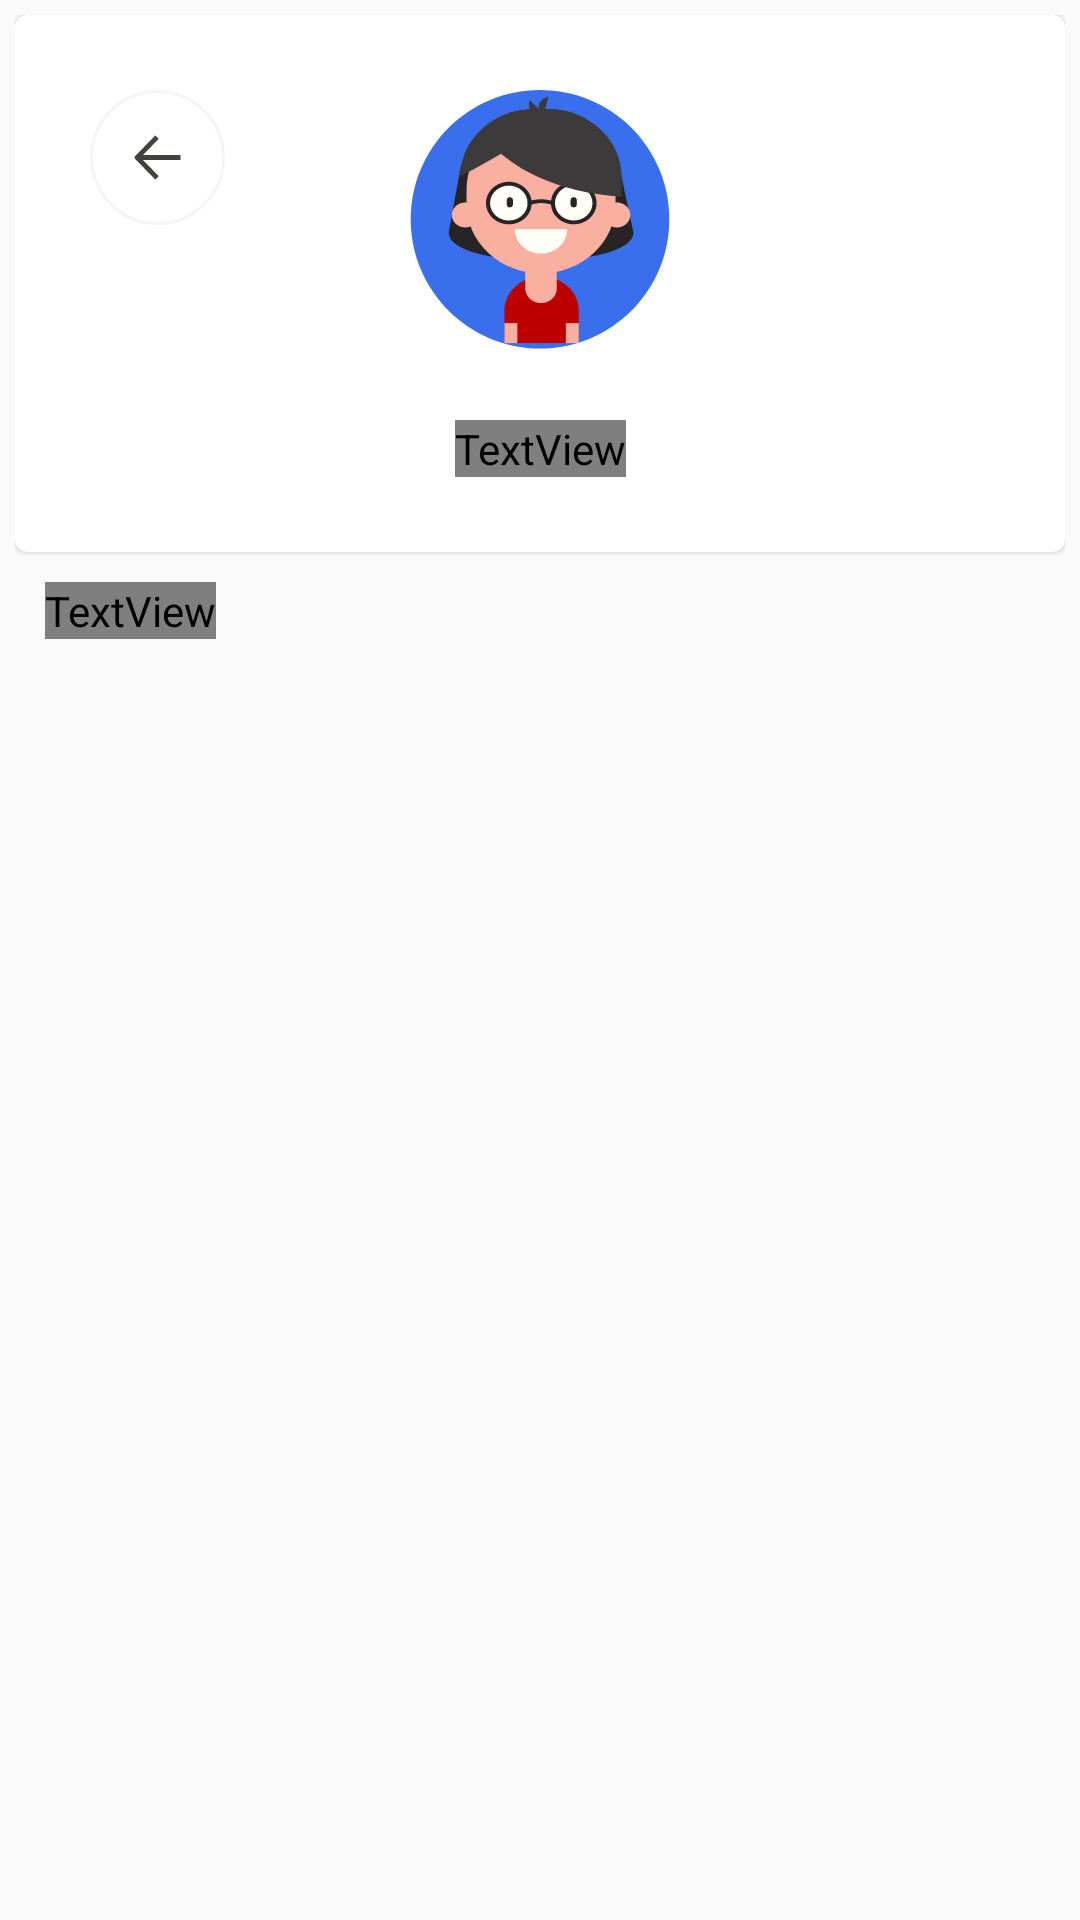

Locate icon controls on the screen. Image size 1080 x 1920, boxes as (x1, y1, x2, y2).
back: (134, 135, 181, 180)
